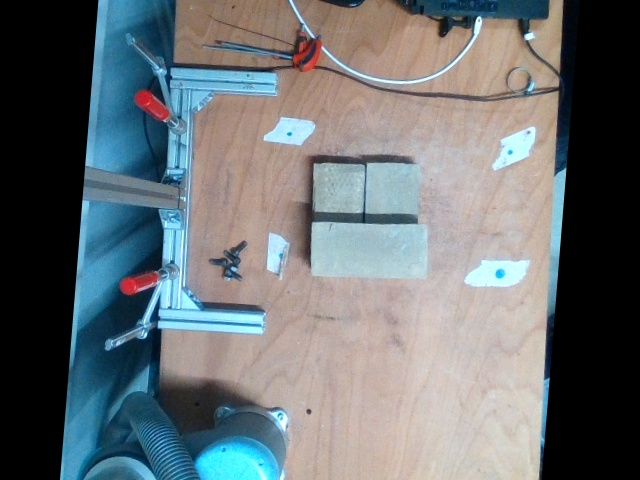brick: (312, 220, 425, 280)
